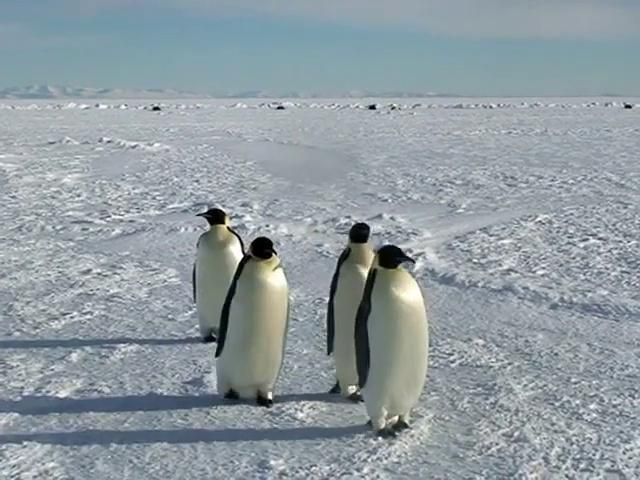animal: (355, 245, 427, 432)
